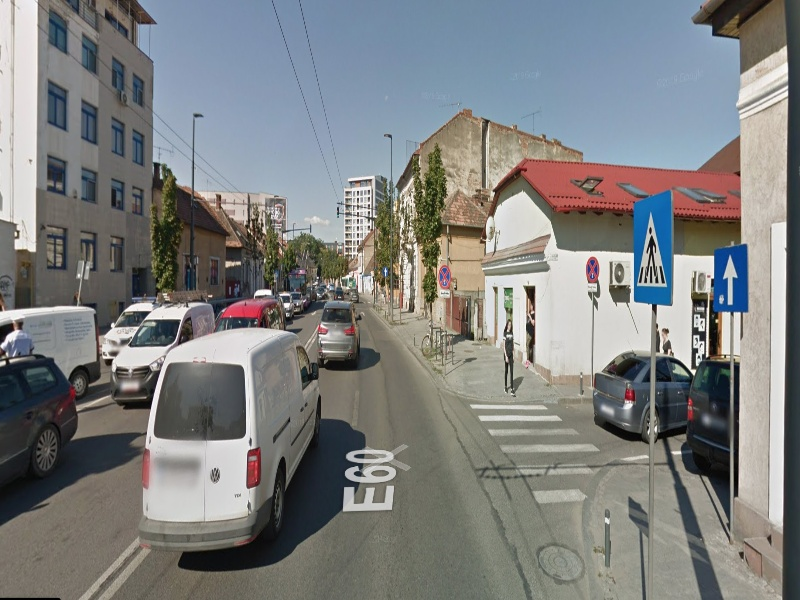crosswalk: (465, 394, 616, 517)
crosswalk_sign: (631, 187, 675, 307)
pedestrian: (498, 317, 524, 400)
